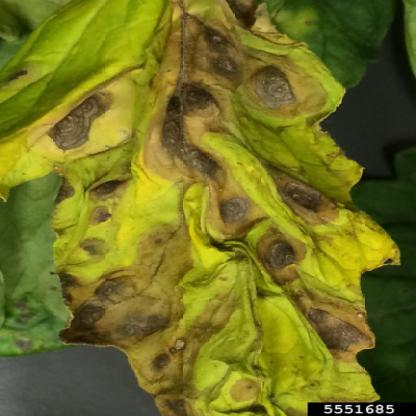Potato leaf early blight: (21, 2, 402, 414)
